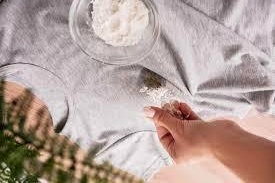wine: (110, 65, 176, 104)
